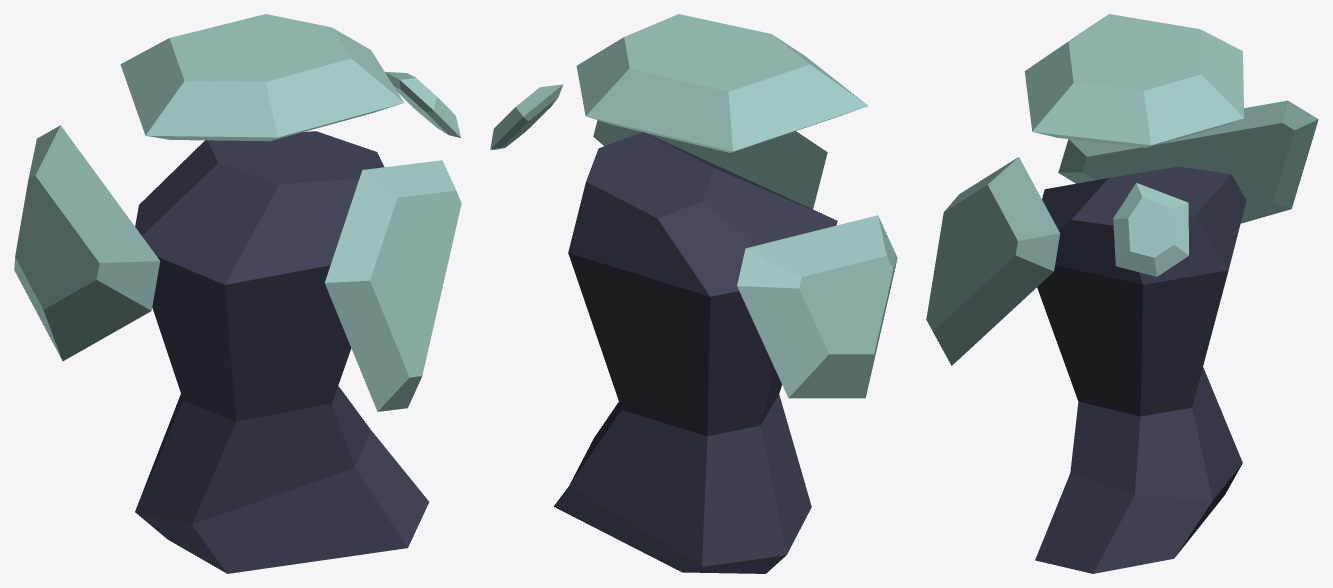
Rendered from buisson_p01.fbx.
The picture shows the model from 3 angles, left to right: view 1: azimuth 30°, elevation 25°; view 2: azimuth 150°, elevation 25°; view 3: azimuth 270°, elevation 25°; orthographic projection. The views are drawn at different scales.
Visible parts, largest first — view 1: Buisson_phase01; view 2: Buisson_phase01; view 3: Buisson_phase01.
Boxes of the visible parts, x1,y1,x2,y2 form: Buisson_phase01: (14, 14, 461, 573); Buisson_phase01: (490, 14, 897, 573); Buisson_phase01: (926, 14, 1318, 573).
Bounding box in the file's own units: 35.96 × 43.43 × 32.99.
